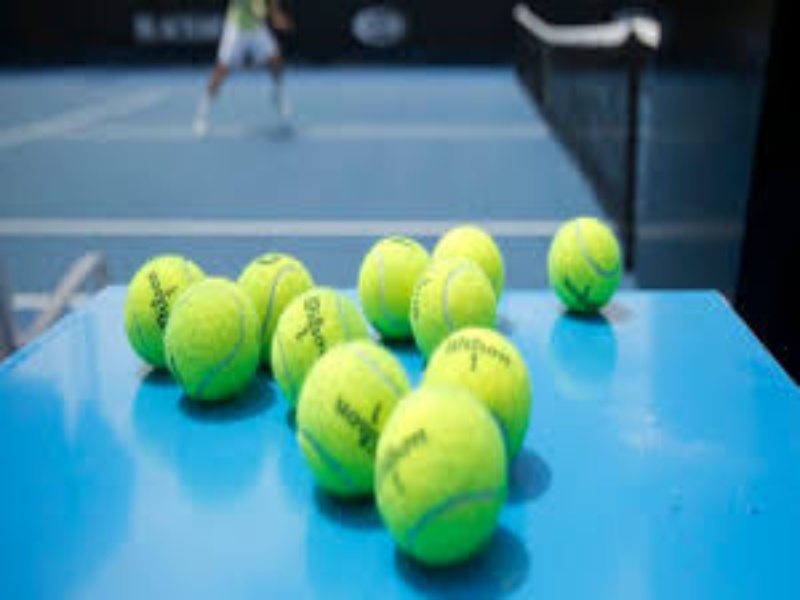tennis ball: (366, 366, 516, 559), (293, 338, 421, 499), (415, 327, 550, 449), (167, 275, 268, 394), (116, 253, 193, 394), (400, 254, 509, 344), (544, 220, 640, 322), (354, 231, 421, 344), (224, 243, 323, 314), (427, 221, 510, 274)
